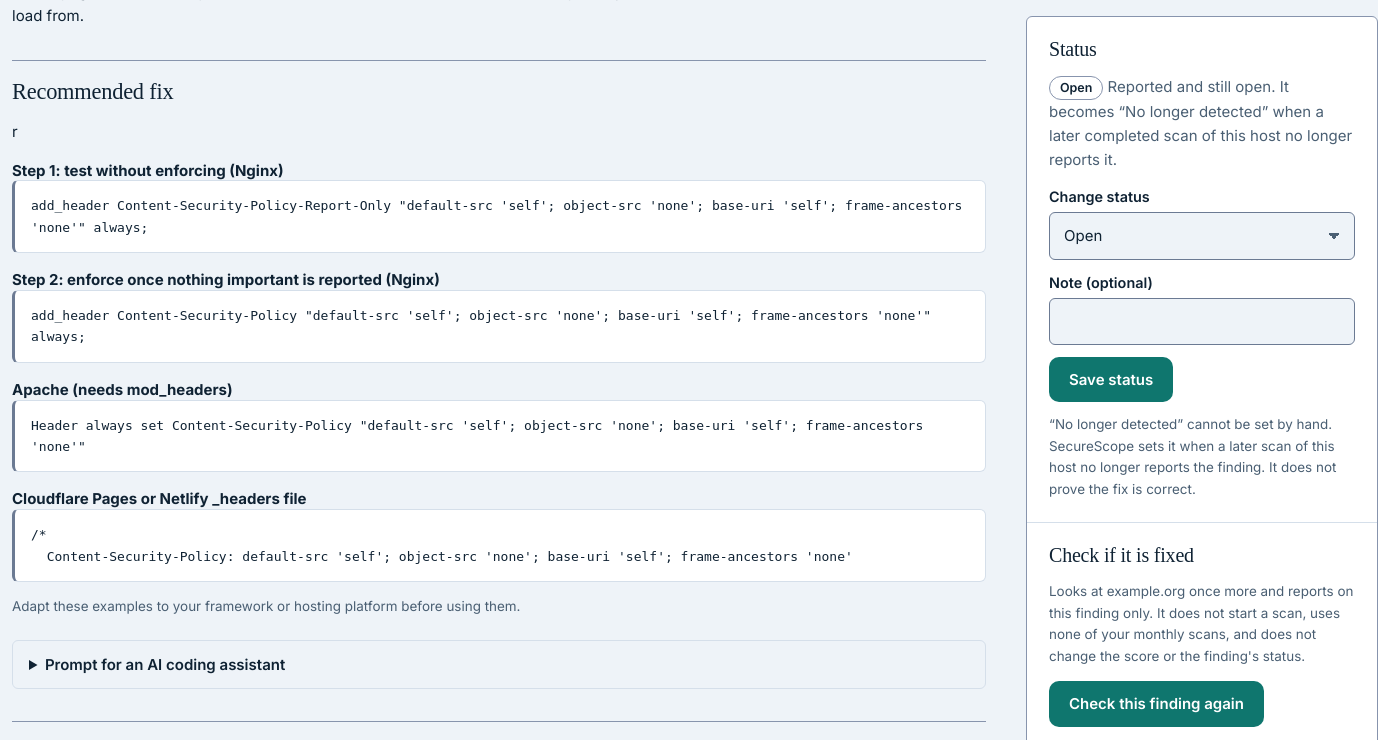
Test case: Check if it is fixed › never says fixed when it could not check, and shows a refusal from the server
(page scrolled)
Click the button "Check this finding again" at (1156, 704), box x1=1049 y1=681 x2=1264 y2=727
(page scrolled)
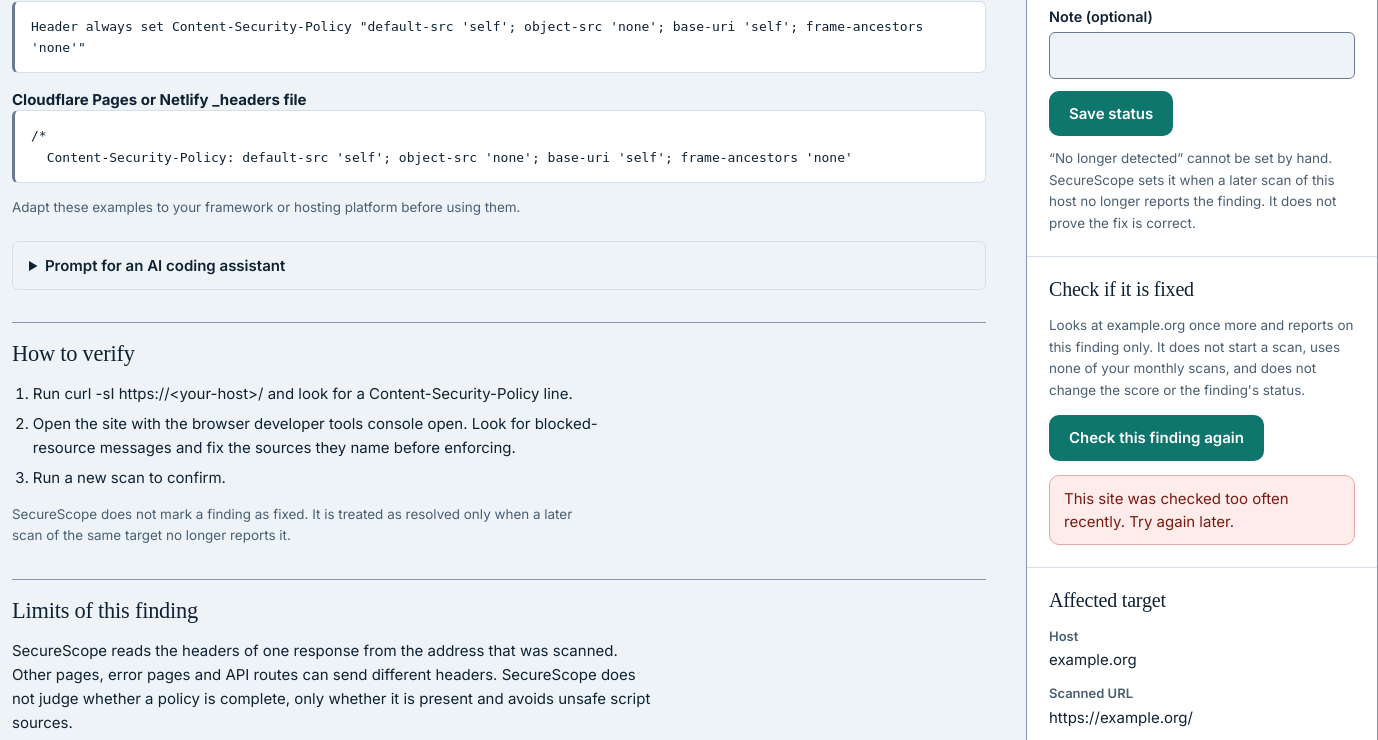
Expected: the message shows "checked too often", x1=1064 y1=489 x2=1289 y2=531
